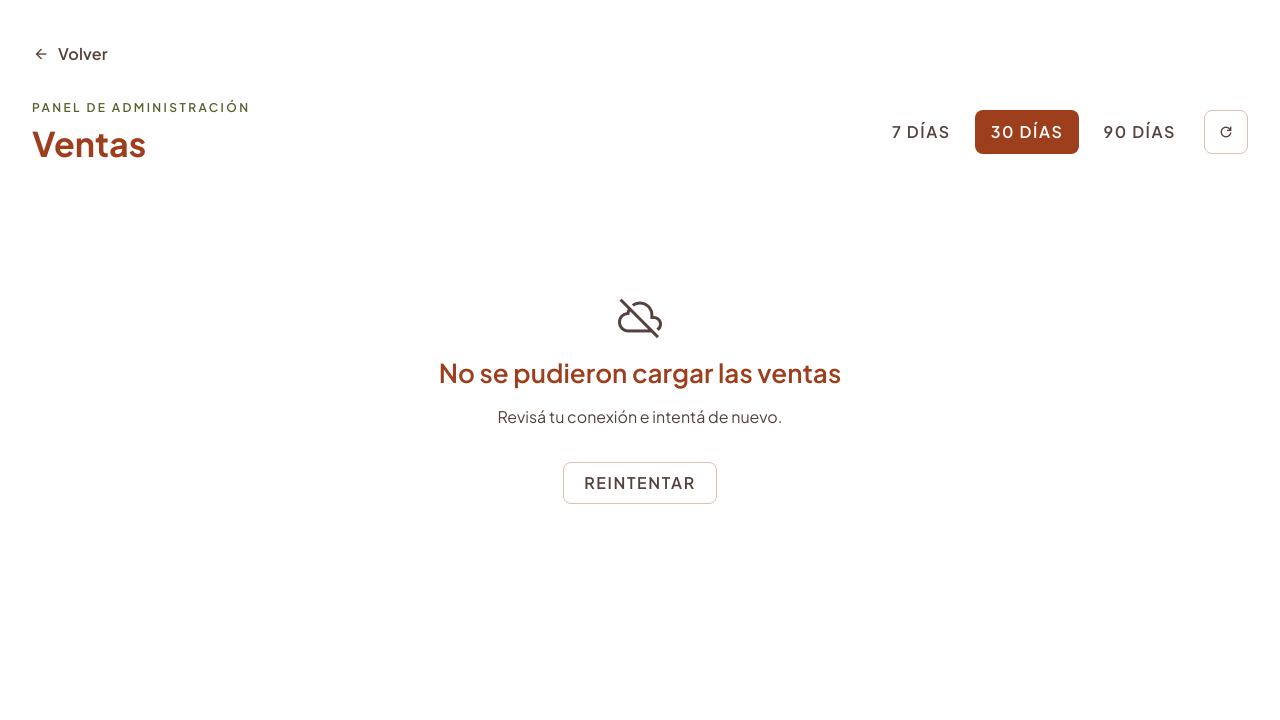
Scenario: AdminVentas › estado de error de carga › ofrece Reintentar y vuelve a pedir el resumen
Expected: the heading "No se pudieron cargar las ventas" is shown, [439,357,841,390]
Click the button "Reintentar" at [640, 483], box [563,462,717,504]
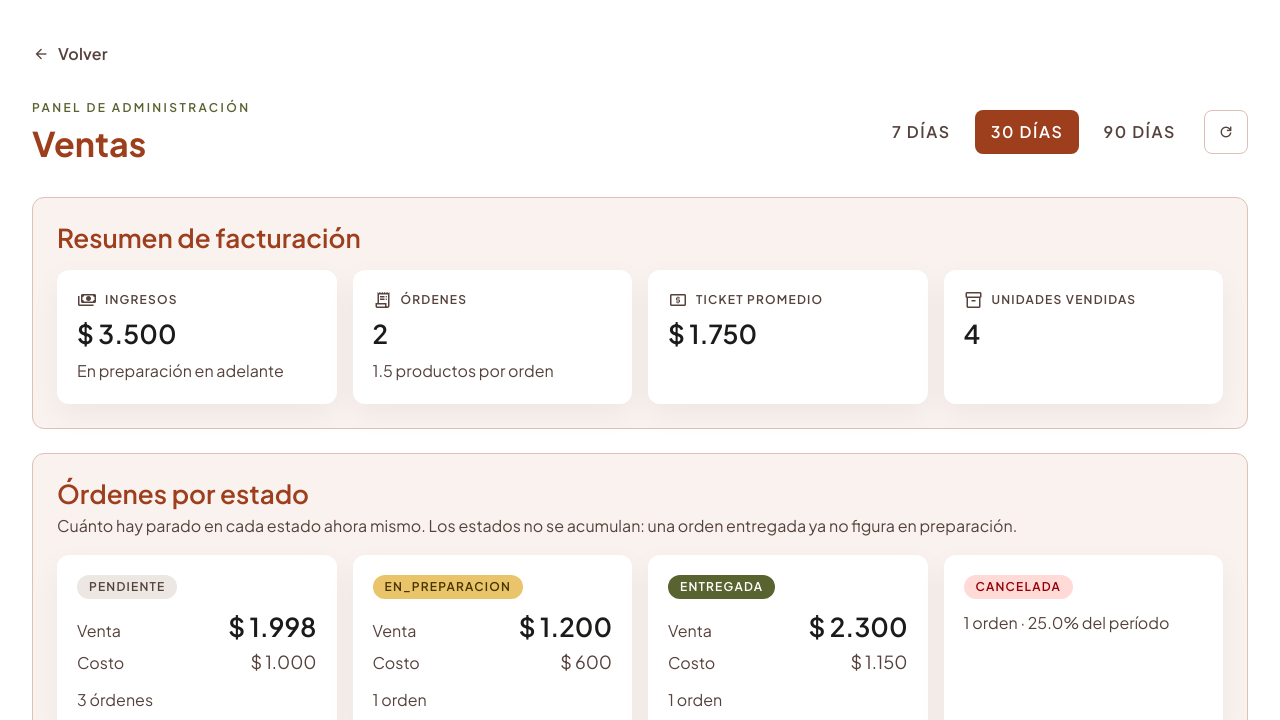
Result: the text "$ 1.750" is shown at [668,318,757,350]
